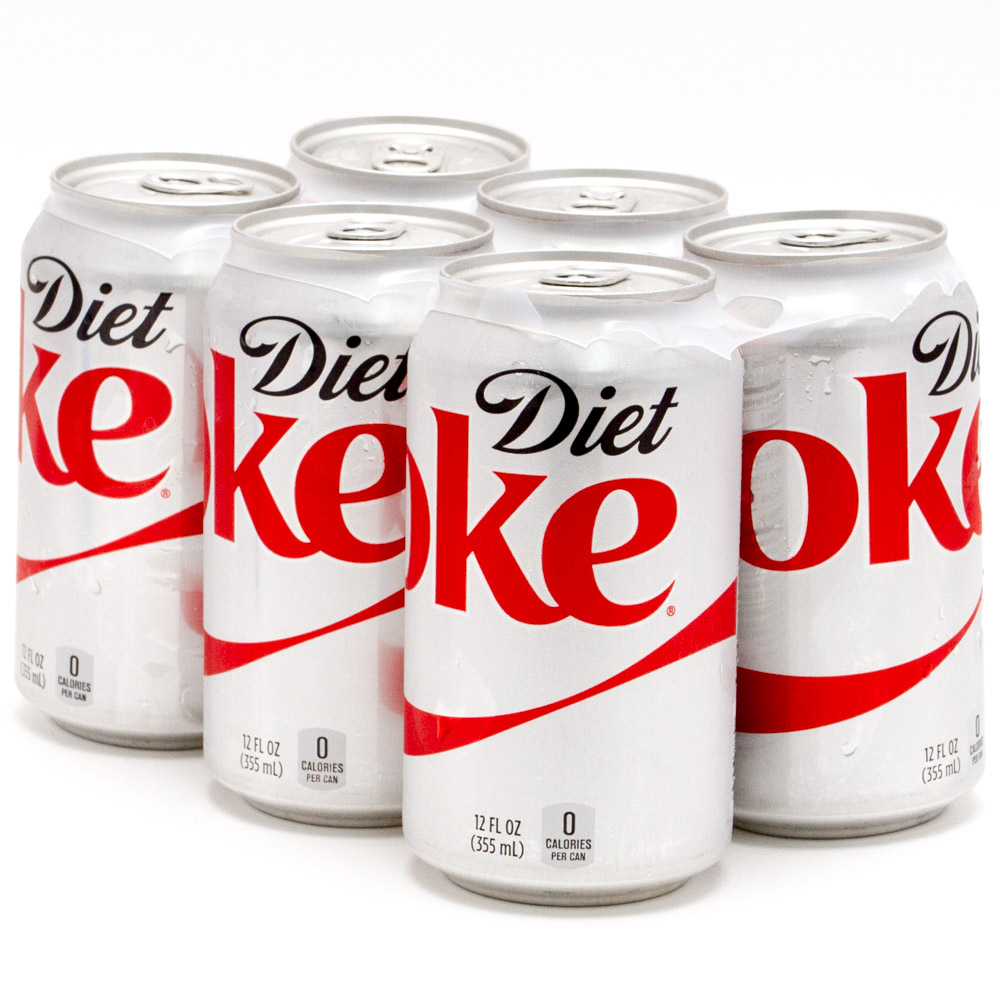Can: (406, 251, 731, 897), (684, 213, 989, 836), (192, 199, 488, 830), (17, 142, 304, 765), (480, 167, 728, 765), (286, 114, 520, 653)
